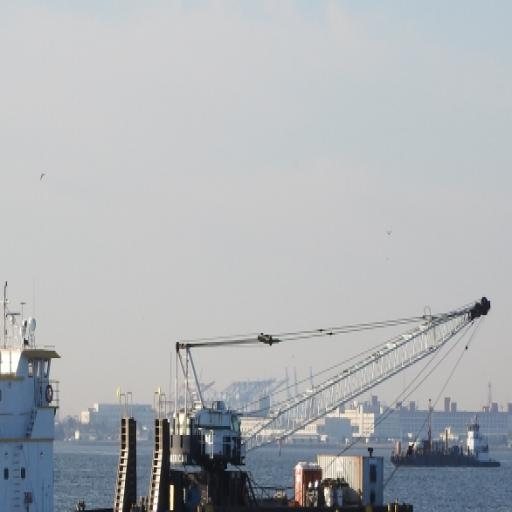tugboat: (1, 303, 417, 512)
